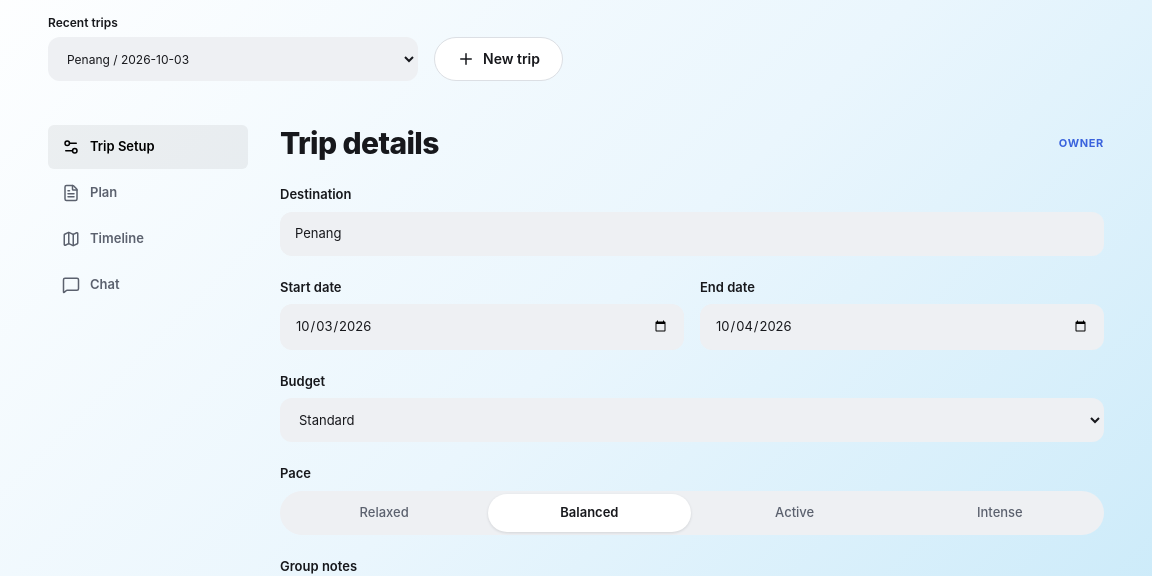
Scenario: trip workspace › saves the edited inputs before generating, then confirms the returned proposal
Replace the text in the field labelled "Destination" with "Ipoh" at (692, 234), box [280,212,1104,256]
(page scrolled)
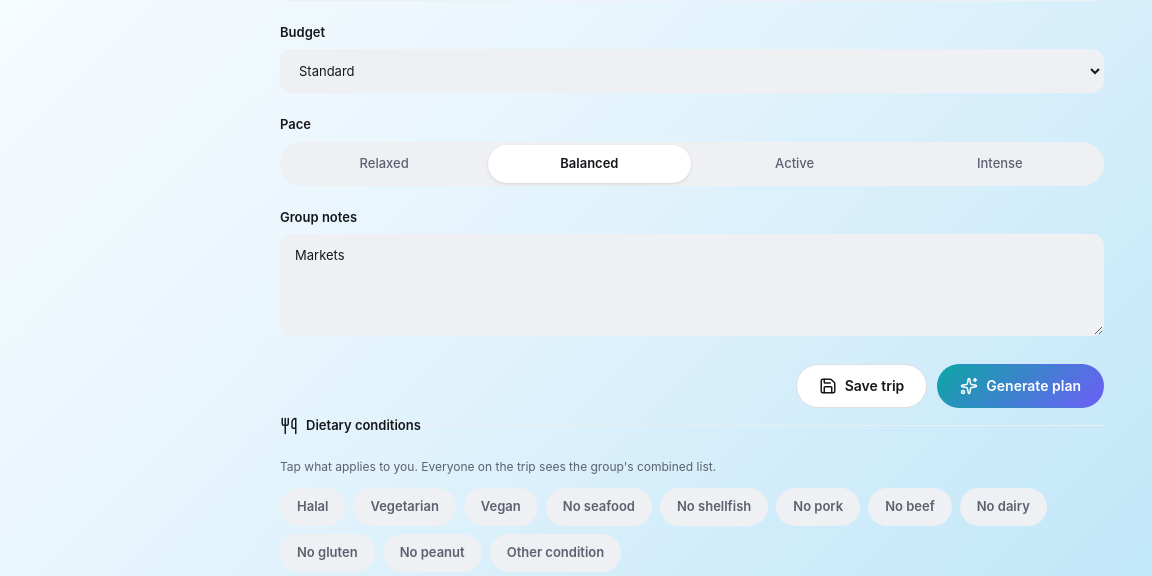
Click the button "Generate plan".
click(1021, 386)  # box [937,364,1104,408]
(page scrolled)
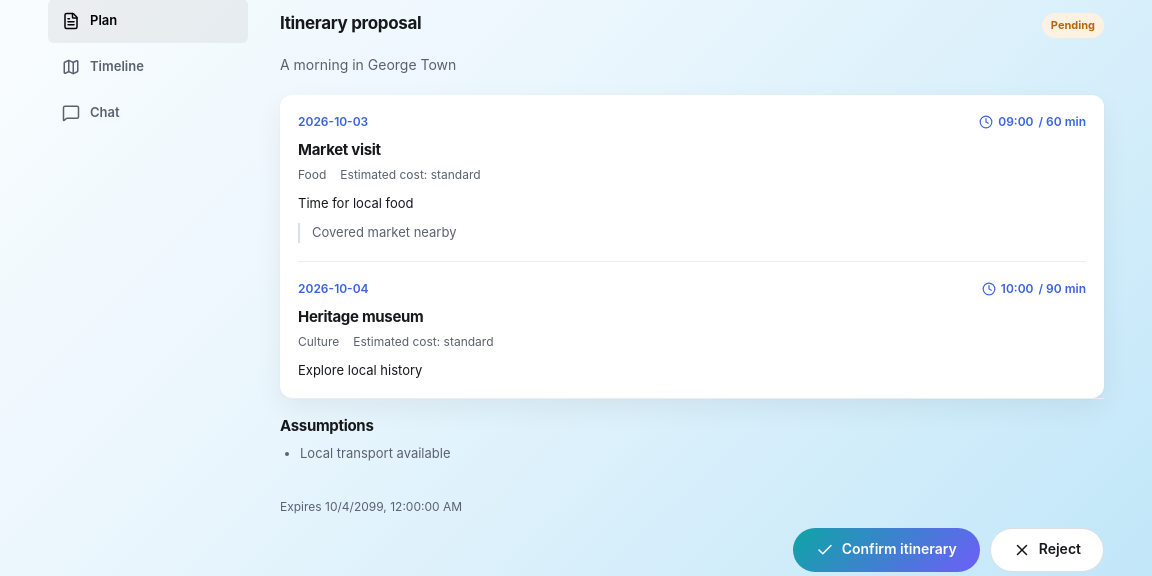
Now the heading "Market visit" is shown, box [298,140,381,158]
Click the button "Confirm itinerary".
click(886, 550)  # box [793,528,980,572]
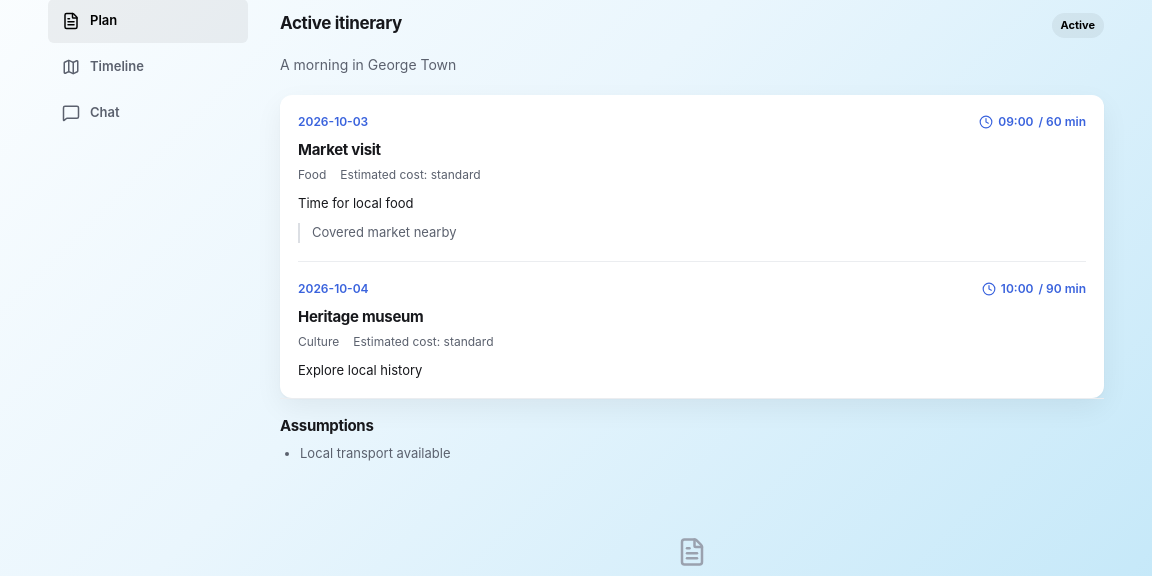
Now the heading "Active itinerary" is shown, box [280,13,402,33]
